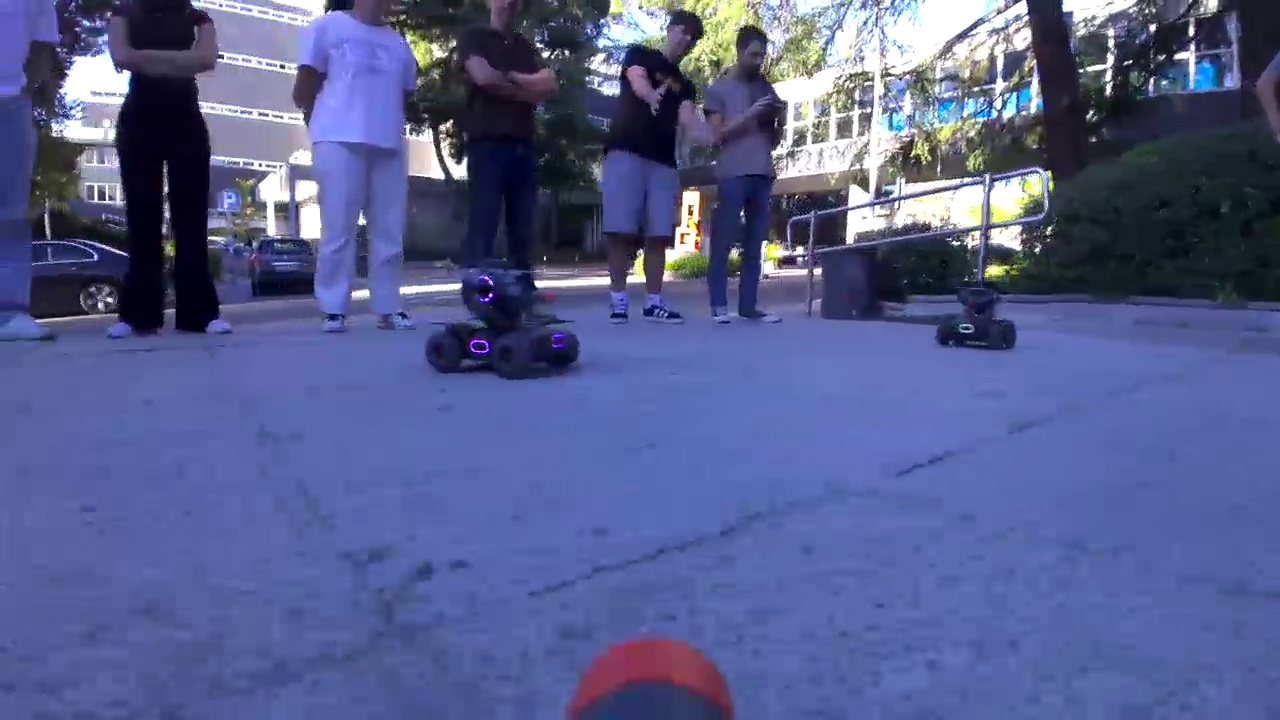robot: (425, 261, 582, 382), (934, 280, 1016, 351)
